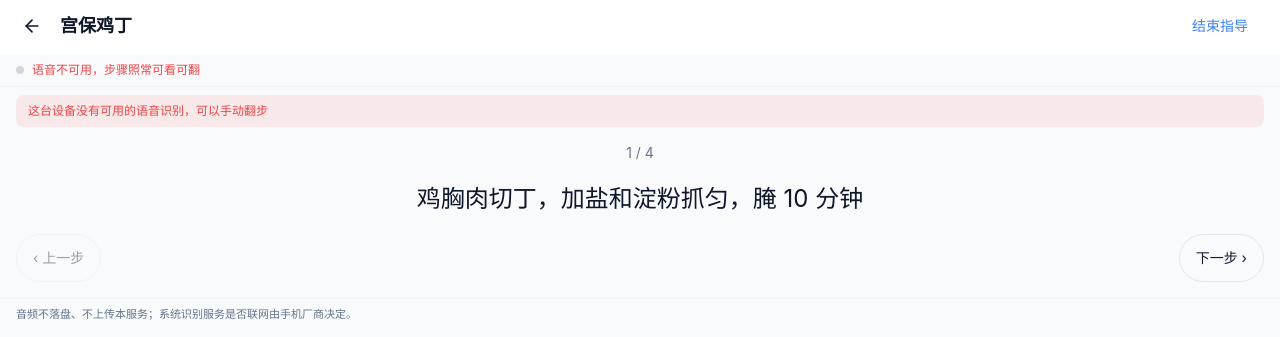
RecipeGuide › 语音不可用时页面仍渲染步骤，下一步按钮仍可用
This screenshot has width=1280, height=337.
expect the text with test id "guide-step-text" shows "鸡胸肉切丁": met, box [417, 184, 863, 213]
expect the button with test id "guide-mic-error" is shown: met, box [16, 95, 1264, 127]
Click the button with test id "guide-next" at (1221,258), box [1179, 234, 1264, 282]
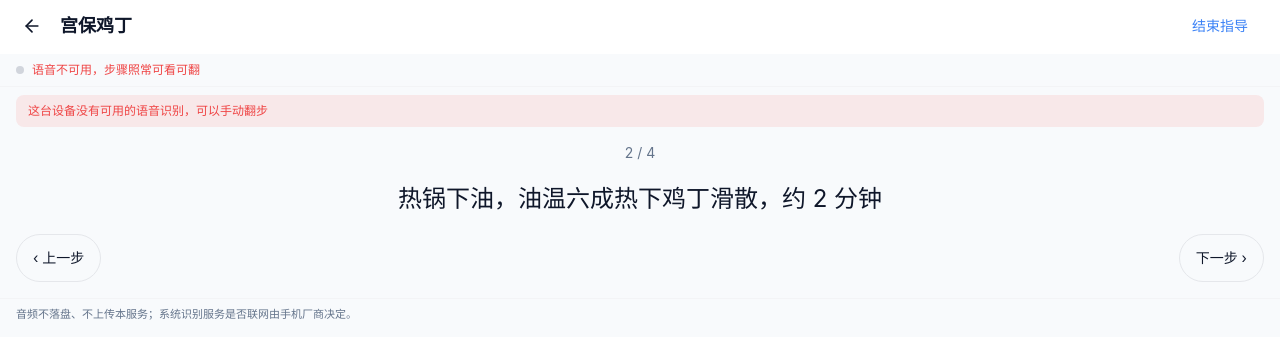
expect the text with test id "guide-step-order" reads "2 / 4": met, box [625, 144, 655, 161]
